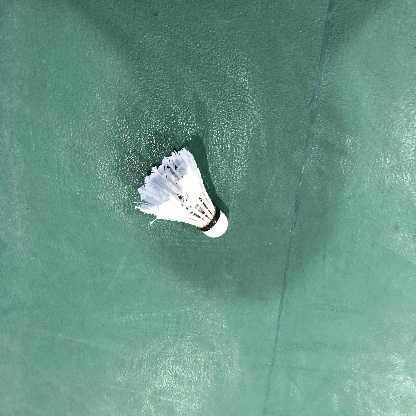ball_single: (135, 148, 228, 237)
